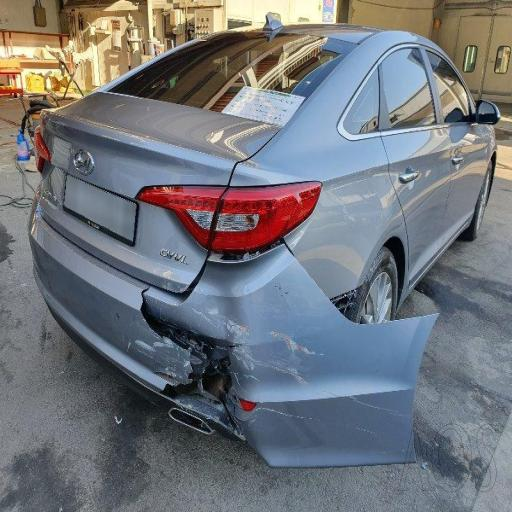broken: (120, 147, 433, 492)
